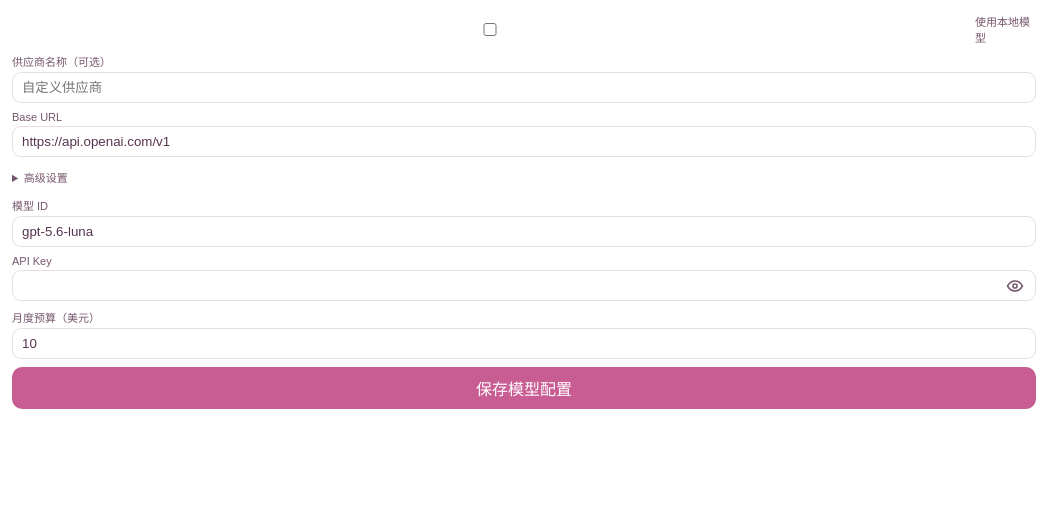
Test case: ModelSettings › waits for persistence and shows a success confirmation
This screenshot has width=1048, height=511.
Type "sk-test-secret" into the password field labelled "API Key". click: (524, 286)
box: x1=12 y1=270 x2=1036 y2=301
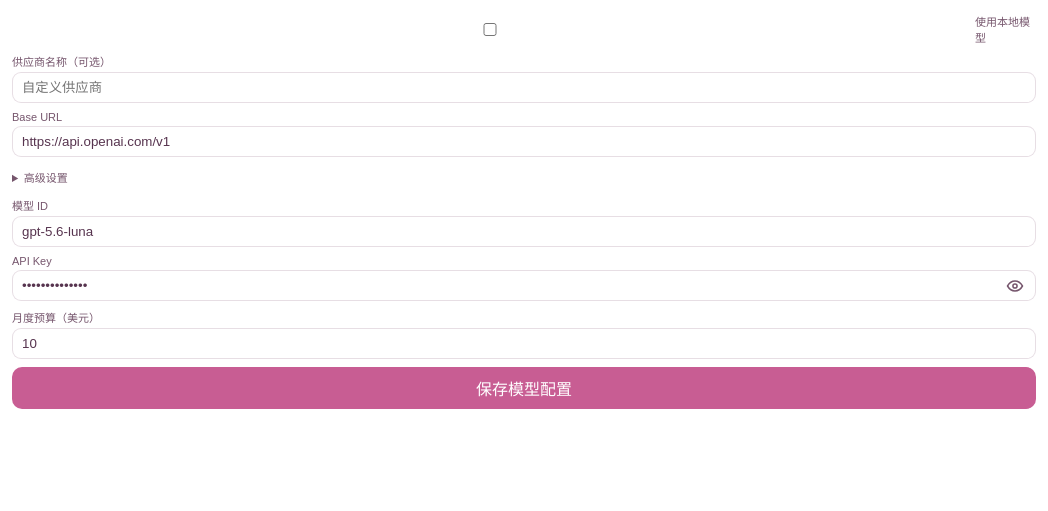
Click the button "保存模型配置". click: click(524, 388)
box: x1=12 y1=367 x2=1036 y2=409
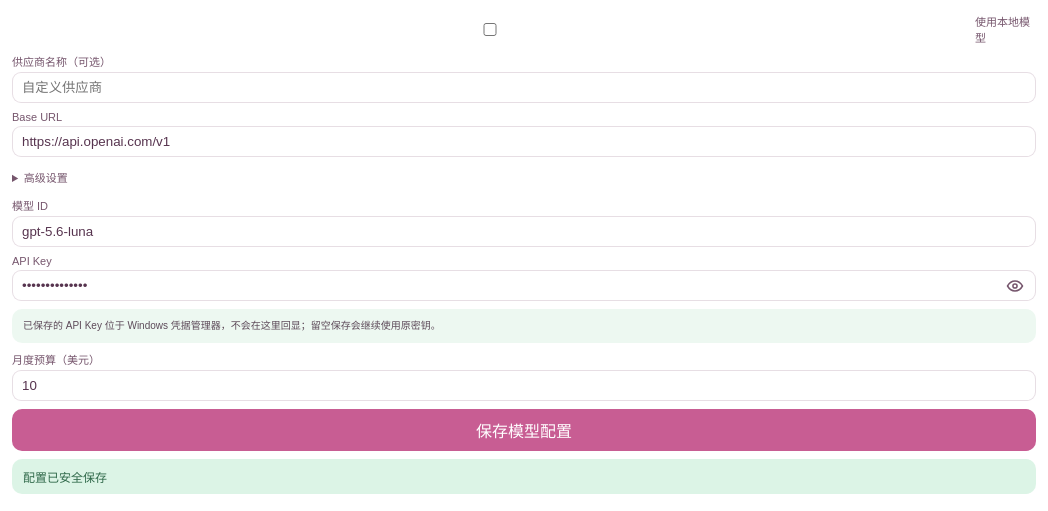
Result: the text "配置已安全保存" is shown at x1=12 y1=458 x2=1036 y2=494
